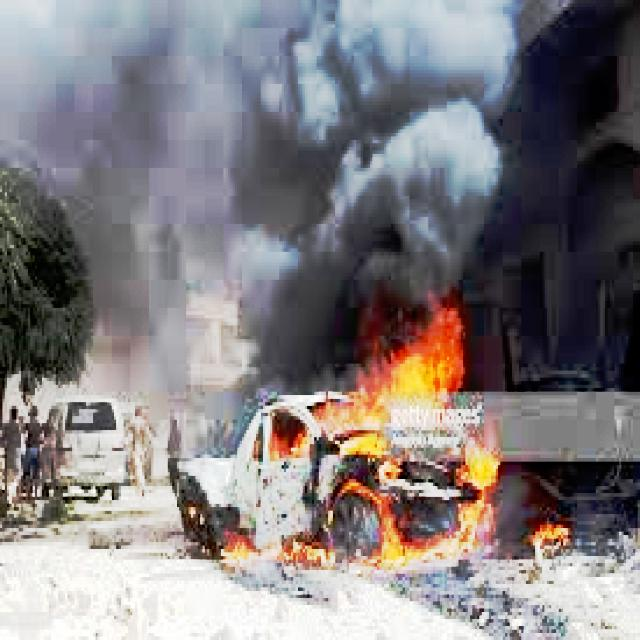api: (253, 309, 502, 575)
